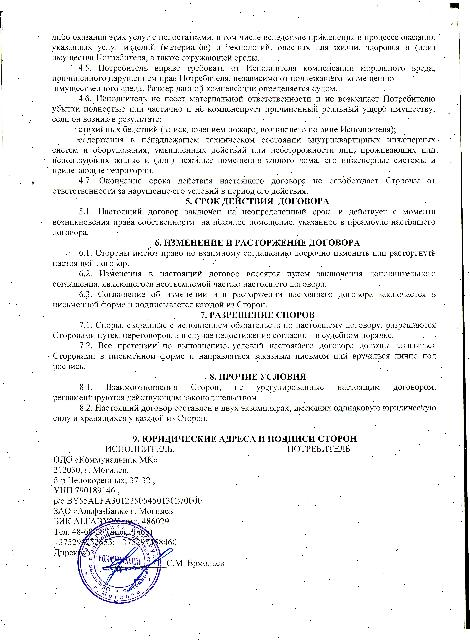stamp: (76, 520, 161, 604)
